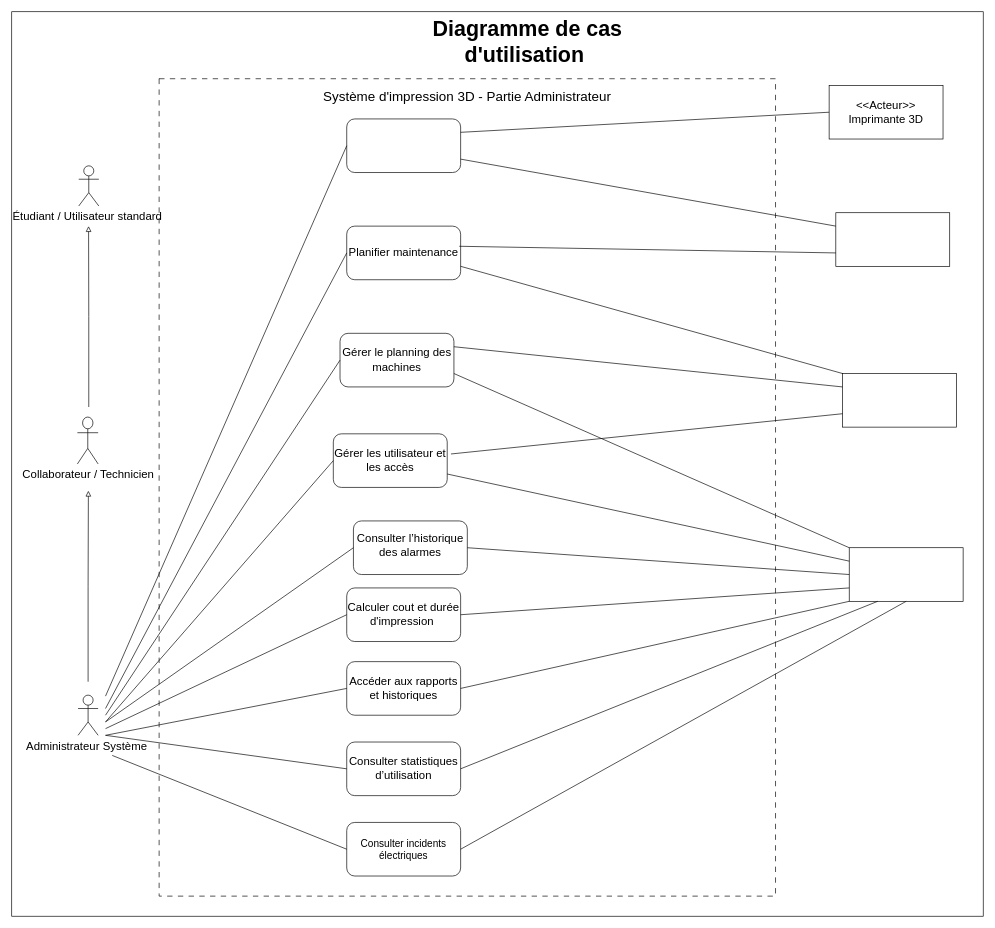
Image size: 995x928. Some labels were removed from this diagram. The centre of each missing label's shape, as x and y in pixels:
<<Acteur>> Base de données: [906,574]
<<Acteur>> Serveur d'impression: [892,239]
<<Acteur>> Serveur web: [899,400]
Gérer les imprimantes 3D: [403,145]
